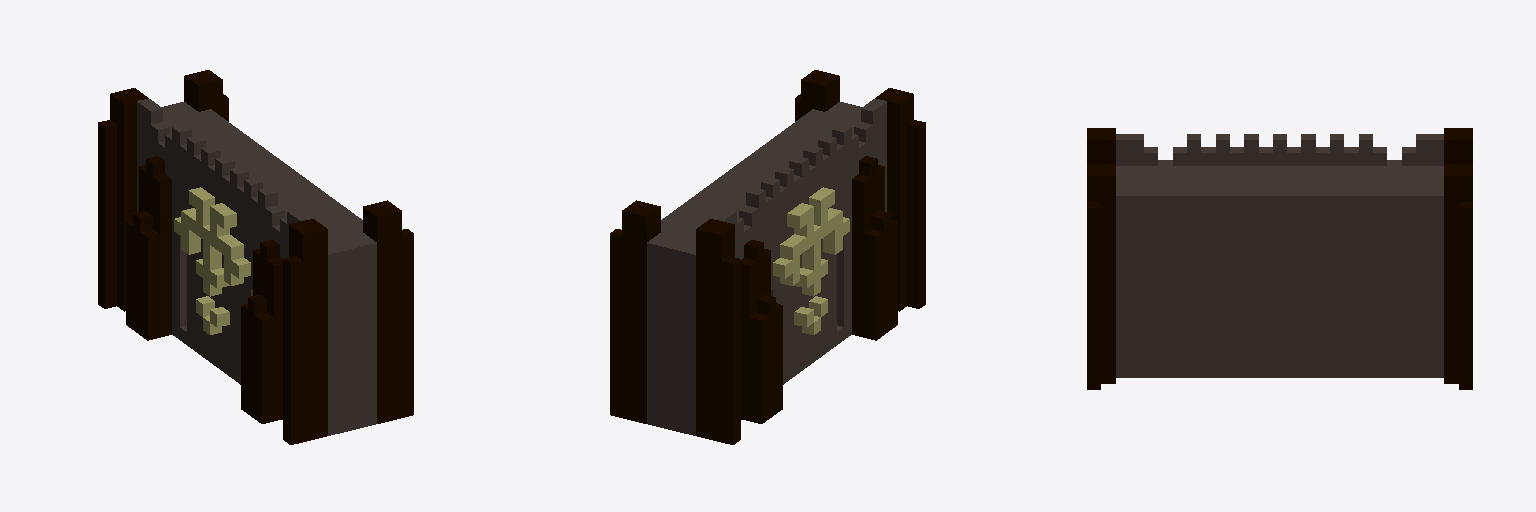
3 renders of one model, left to right at view 1: azimuth 30°, elevation 25°; view 2: azimuth 150°, elevation 25°; view 3: azimuth 270°, elevation 25°, orthographic.
Bounding box in the file's own units: 10 × 16 × 27.
1 materials, 1 textured.